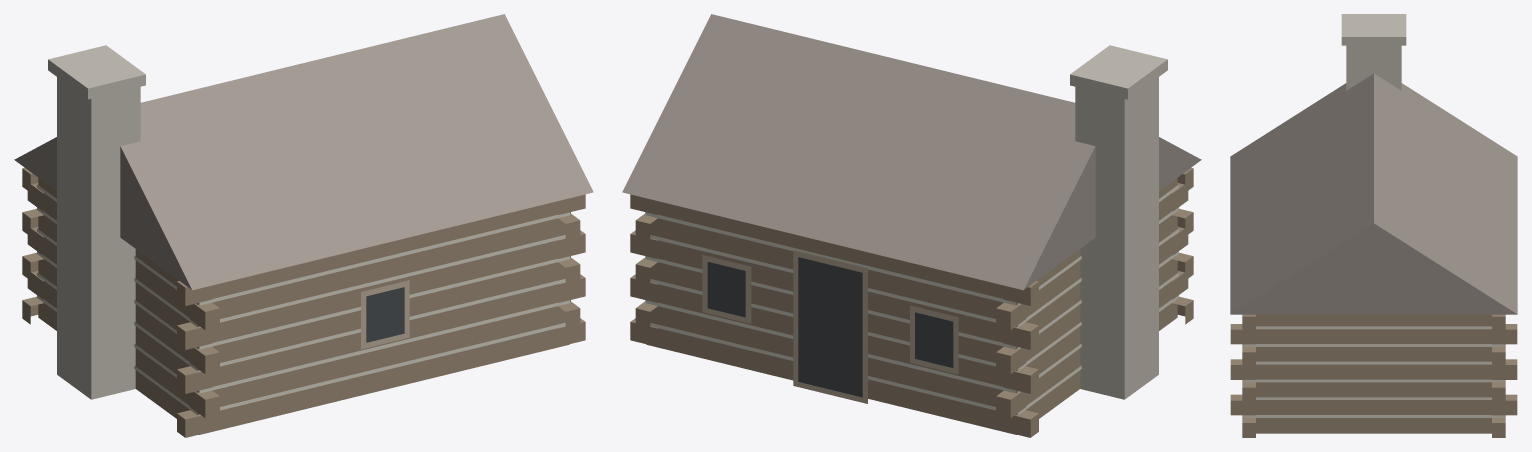
Rendered from blacksmith_shop_state_st__log_1823.glb.
3 views of the same model, side by side, from view 1: azimuth 30°, elevation 25°; view 2: azimuth 150°, elevation 25°; view 3: azimuth 270°, elevation 25° (orthographic). The views are drawn at different scales.
Parts seen in each view (by area): view 1: blacksmith_shop_state_st__log_1823; view 2: blacksmith_shop_state_st__log_1823; view 3: blacksmith_shop_state_st__log_1823.
Boxes of the visible parts, <box> form: blacksmith_shop_state_st__log_1823: <box>14,14,593,437</box>; blacksmith_shop_state_st__log_1823: <box>622,14,1201,437</box>; blacksmith_shop_state_st__log_1823: <box>1230,14,1517,437</box>.
Size of the model in its own units: 7.07 by 4.94 by 5.
